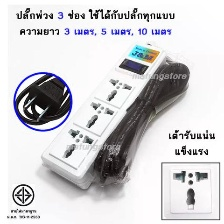three_eye_plug: (38, 40, 169, 191), (166, 166, 214, 216)
